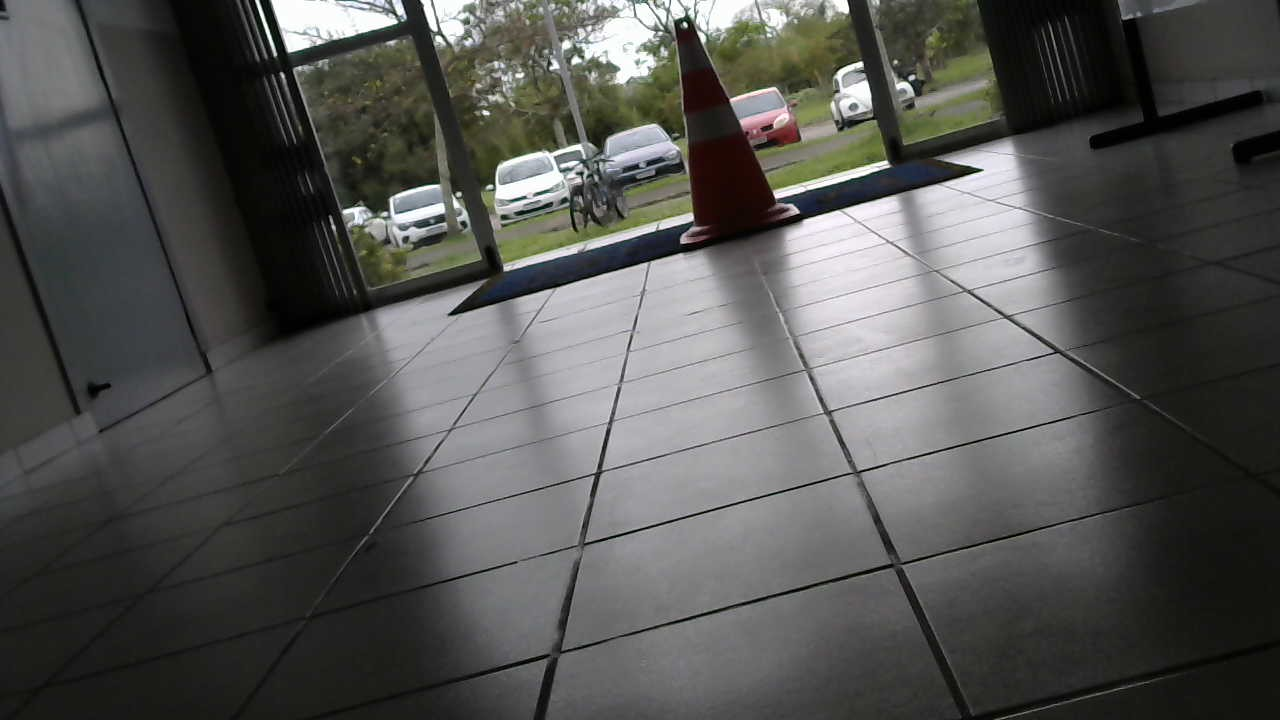cone: (670, 12, 799, 243)
